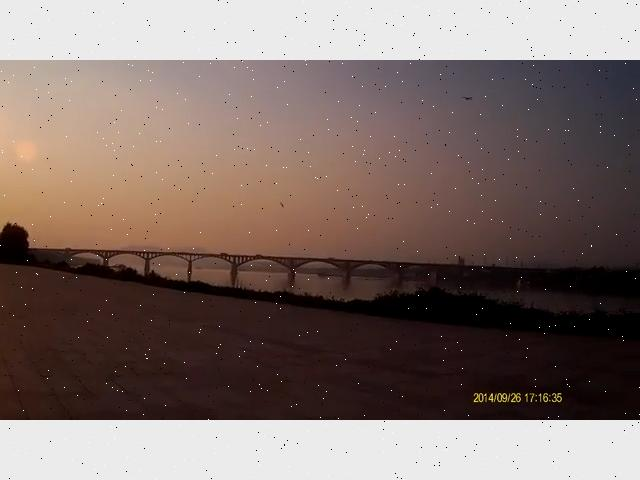Anti-Drone: (270, 194, 304, 220)
